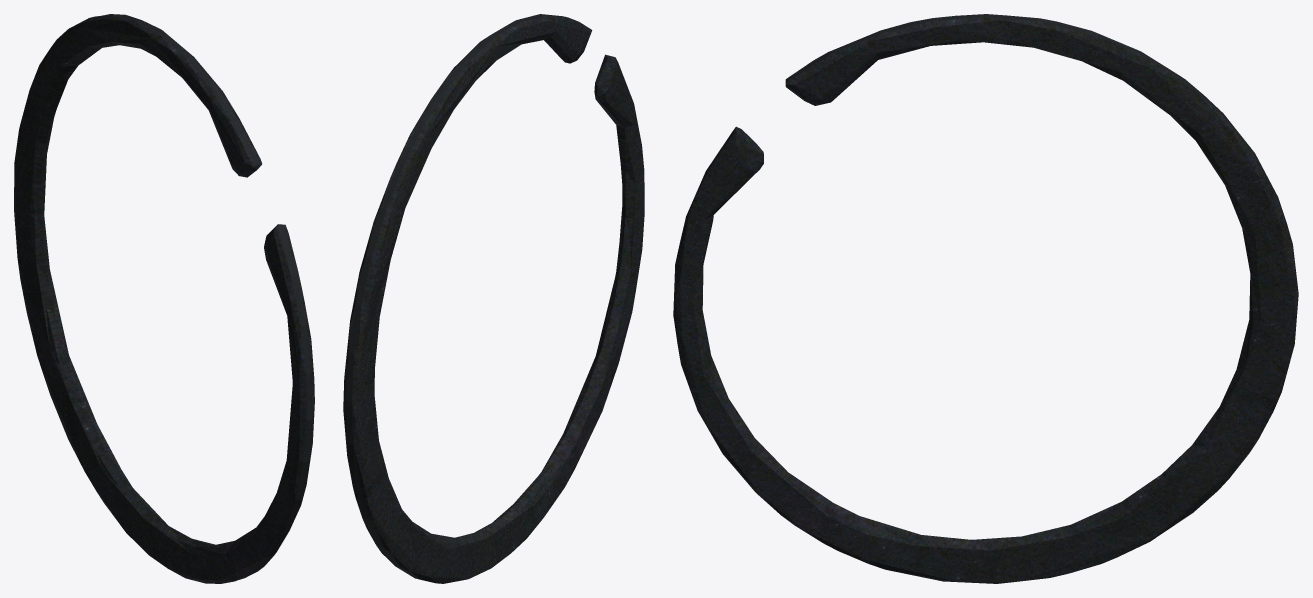
The model's file is Bolt_Ring2.dae.
The picture shows the model from 3 angles, left to right: view 1: azimuth 30°, elevation 25°; view 2: azimuth 150°, elevation 25°; view 3: azimuth 270°, elevation 25°; orthographic projection. The views are drawn at different scales.
Parts seen in each view (by area): view 1: Bolt_Ring2; view 2: Bolt_Ring2; view 3: Bolt_Ring2.
Boxes of the visible parts, left/top/right/bottom form: Bolt_Ring2: left=14, top=14, right=314, bottom=583; Bolt_Ring2: left=343, top=14, right=644, bottom=583; Bolt_Ring2: left=673, top=14, right=1298, bottom=583.
Size of the model in its own units: 0.000396 by 0.0127 by 0.0127.
Materials: 1 (1 with a texture image).
